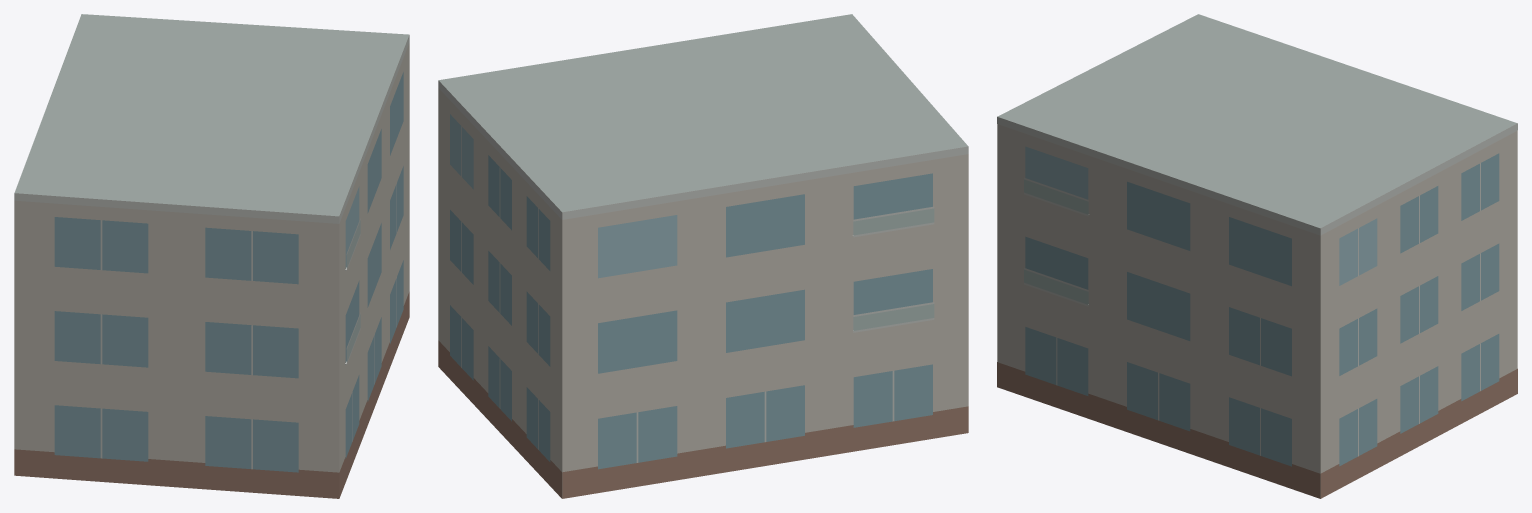
Rendered from survey-upis-32698665.glb.
3 renders of one model, left to right at view 1: azimuth 30°, elevation 25°; view 2: azimuth 150°, elevation 25°; view 3: azimuth 270°, elevation 25°, orthographic. The views are drawn at different scales.
Visible parts, largest first — view 1: survey-upis-32698665.tmp; view 2: survey-upis-32698665.tmp; view 3: survey-upis-32698665.tmp.
Part boxes in pixels (box(x1,y1,x2,y2)): survey-upis-32698665.tmp: box(14, 14, 409, 498); survey-upis-32698665.tmp: box(438, 14, 968, 498); survey-upis-32698665.tmp: box(997, 14, 1517, 498).
Size of the model in its own units: 15.56 by 9.15 by 15.97.
